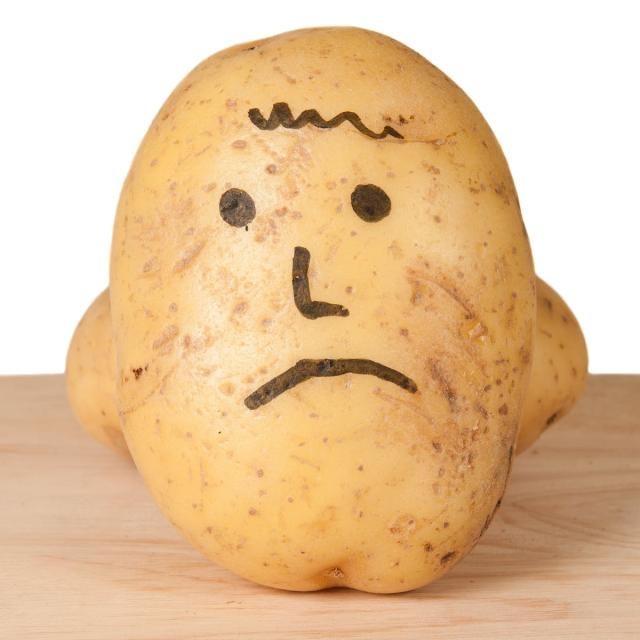potato: (110, 26, 536, 597)
